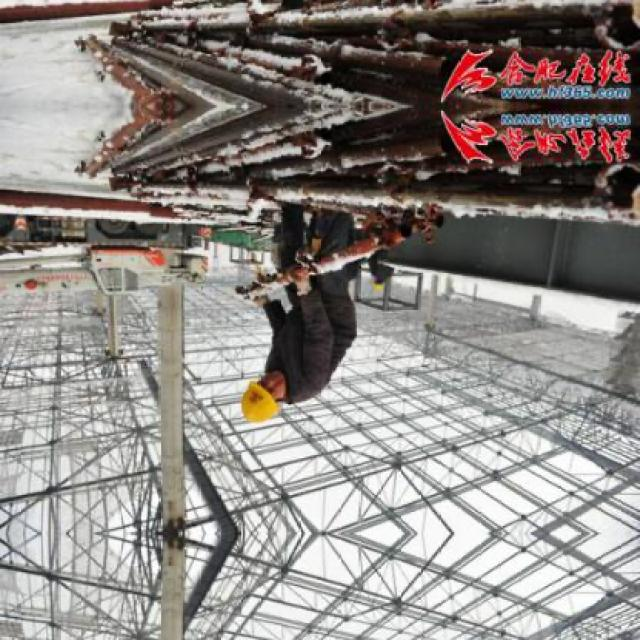con casco: (235, 361, 321, 423)
